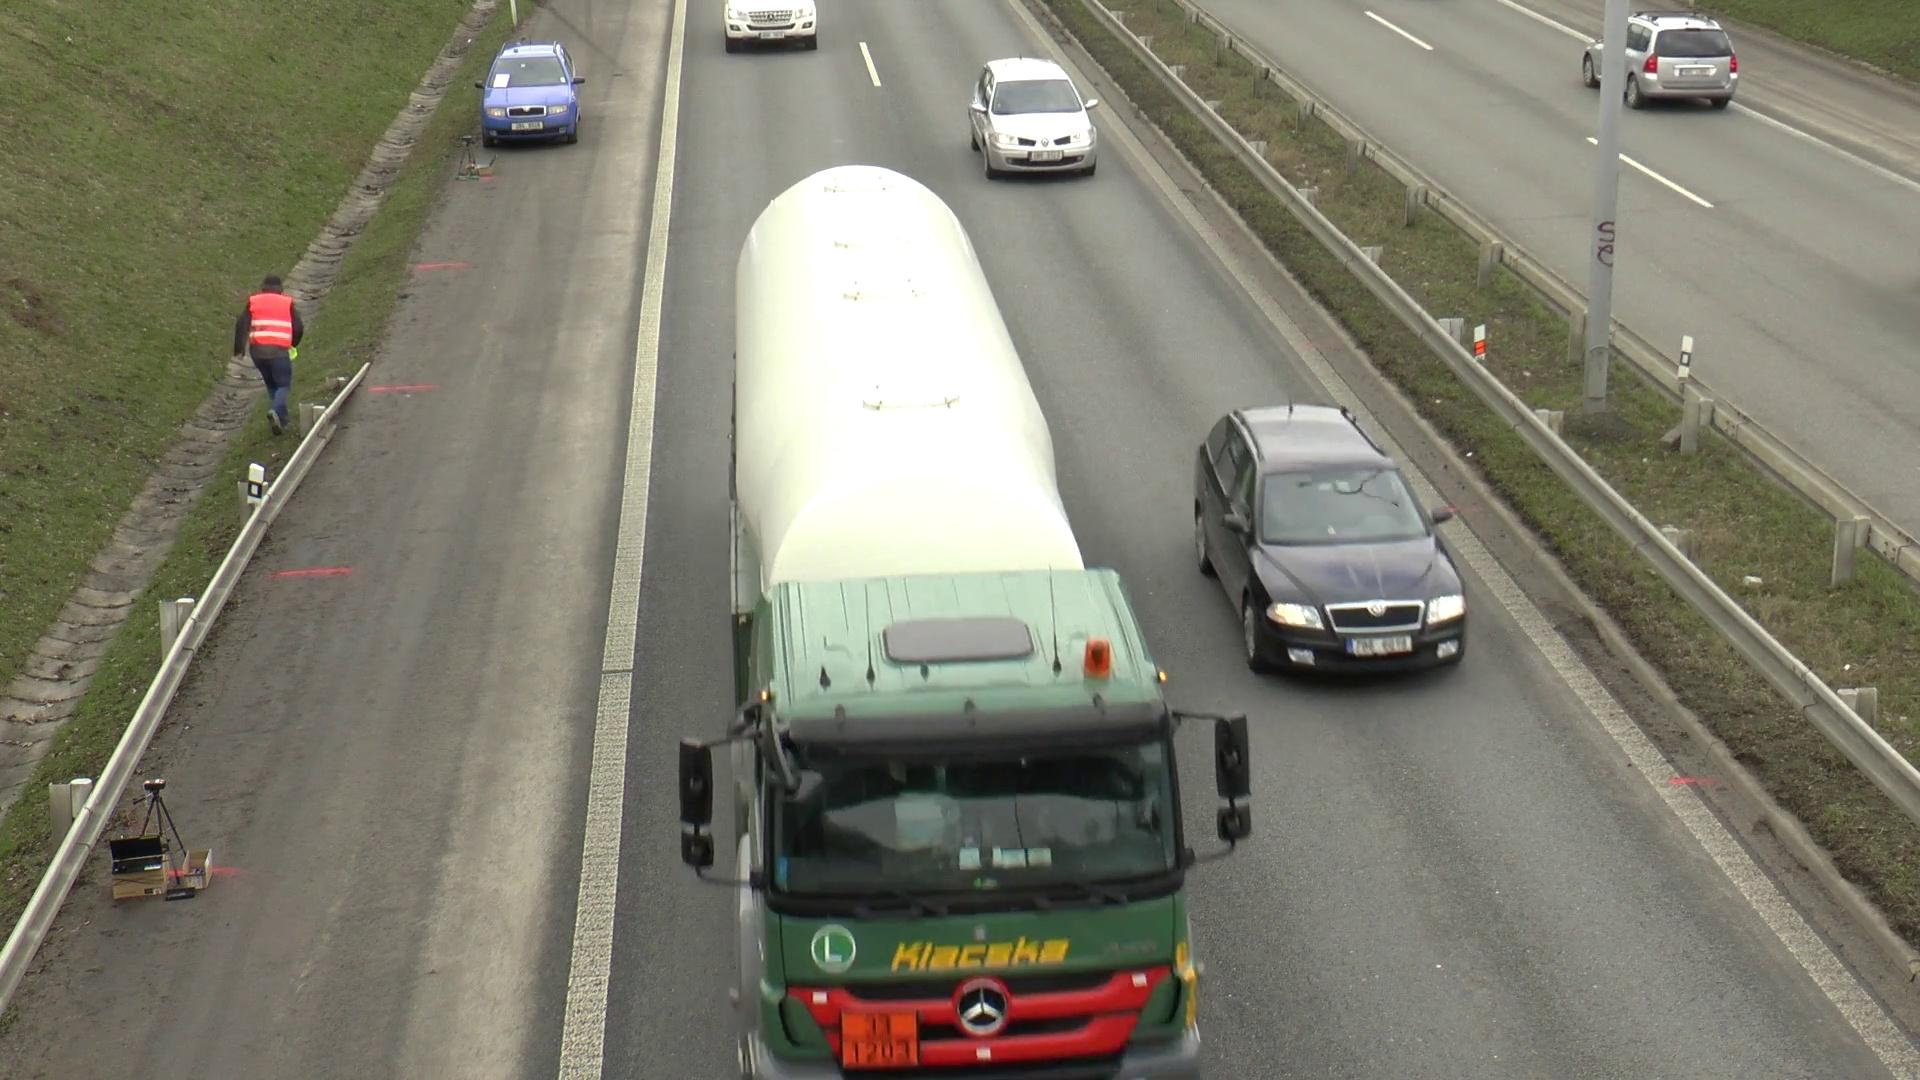Car: (1176, 388, 1490, 693), (976, 42, 1104, 188), (1590, 10, 1738, 112), (488, 36, 574, 151), (716, 6, 840, 53)
Human: (228, 276, 334, 444)
Pedestrian: (16, 4, 462, 873)
Truck: (702, 162, 1256, 1080)
